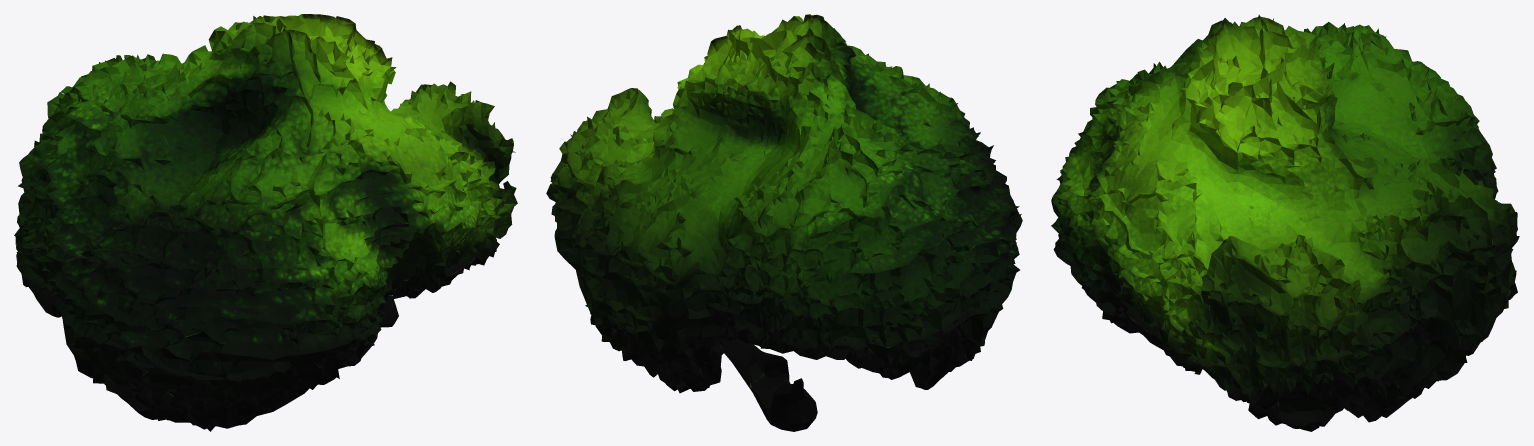
File: natural-moss-wall-art-vintage.jpeg.glb
3 views of the same model, side by side, from view 1: azimuth 30°, elevation 25°; view 2: azimuth 150°, elevation 25°; view 3: azimuth 270°, elevation 25° (orthographic). The views are drawn at different scales.
Parts seen in each view (by area): view 1: world; view 2: world; view 3: world.
Boxes of the visible parts, bbox=[...] form: world: bbox=[14, 14, 517, 431]; world: bbox=[546, 14, 1022, 431]; world: bbox=[1051, 14, 1519, 431].
Size of the model in its own units: 0.9794 by 0.8332 by 0.8864.
1 material, 1 textured.
